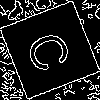C: (24, 25, 81, 76)
